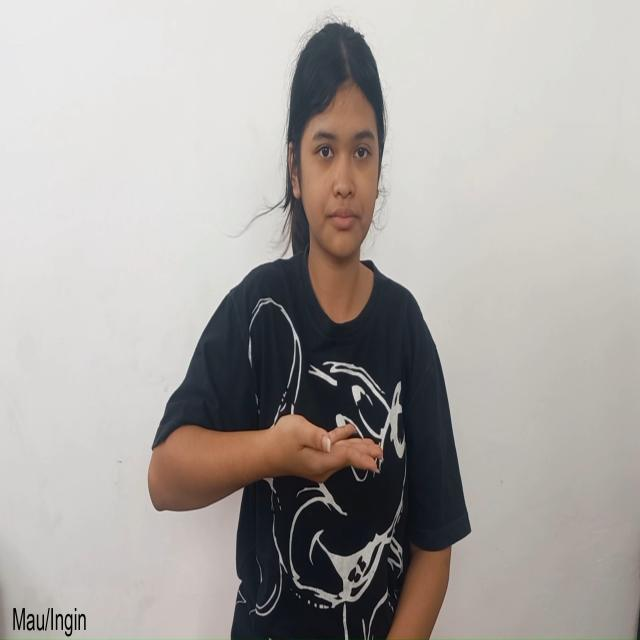Mau-Ingin -BISINDO-: (147, 391, 386, 544)
